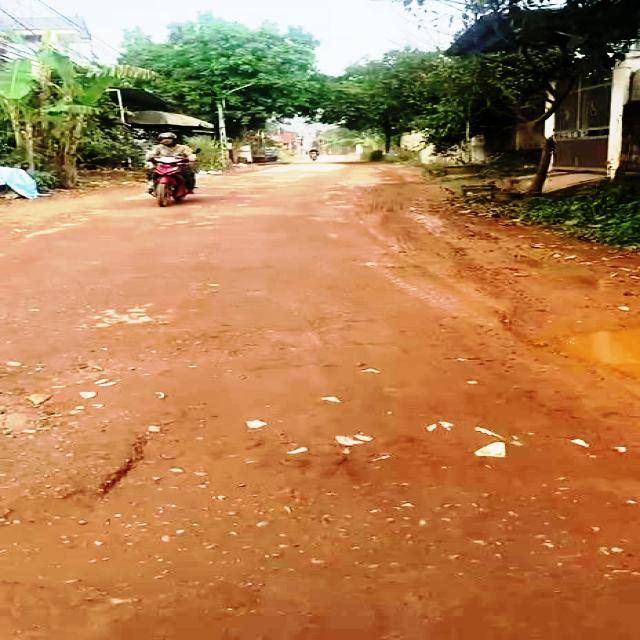pothole: (539, 320, 640, 381)
